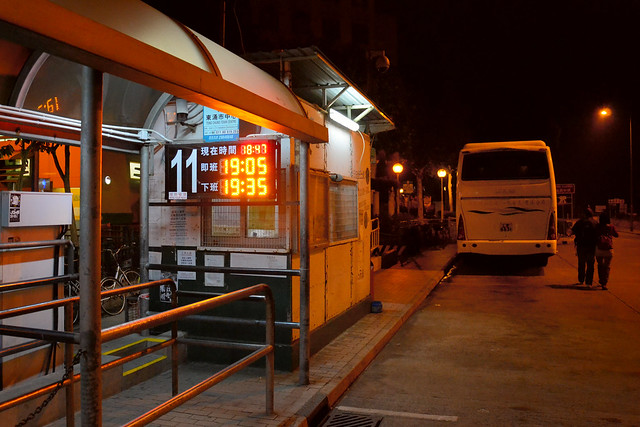bus: (455, 140, 557, 267)
